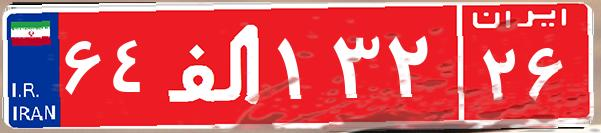1: (273, 28, 330, 110)
2: (385, 28, 445, 110), (475, 38, 525, 113)
3: (330, 28, 385, 110)
4: (110, 28, 158, 105)
6: (57, 26, 110, 107), (525, 38, 570, 115)
الف: (158, 15, 273, 115)
